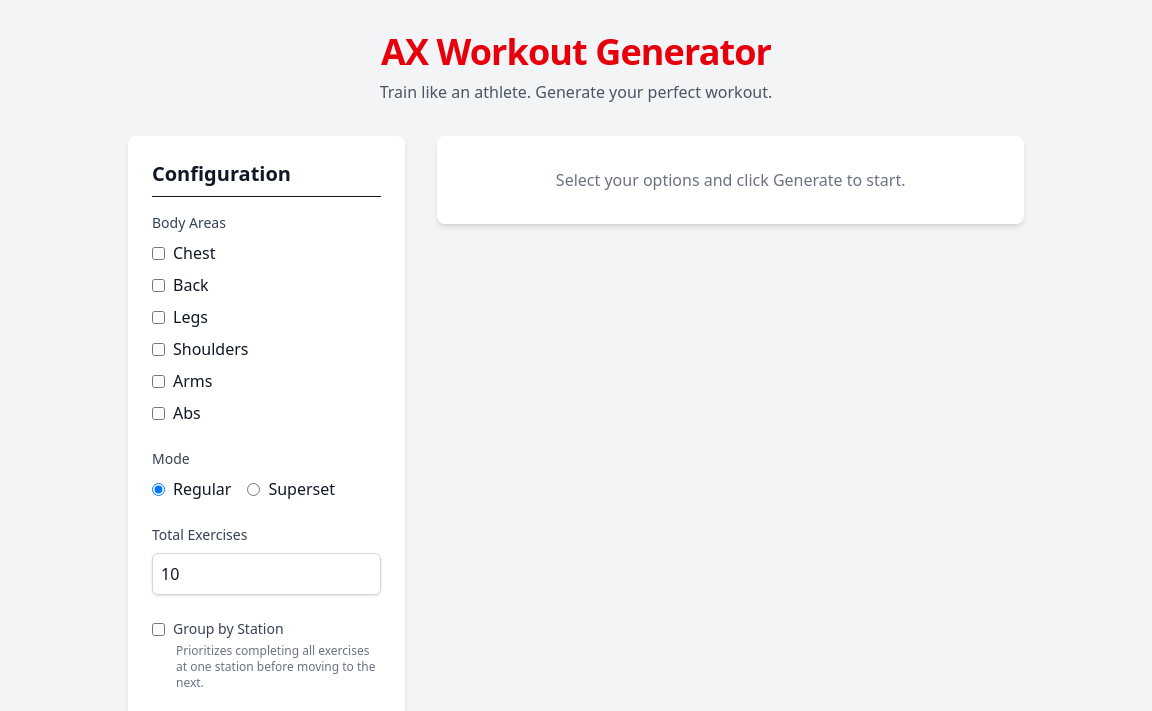
Test: App Component › generates a workout and allows clearing it
This screenshot has width=1152, height=711.
Check: the text "Select your options and click Generate to start." is shown, box [437,136,1024,224]
Check: the text "CLEAR WORKOUT" is not shown
Note: Select a body area (Chest)
Click the checkbox labelled "Chest": (158, 253) [152,246,165,260]
(page scrolled)
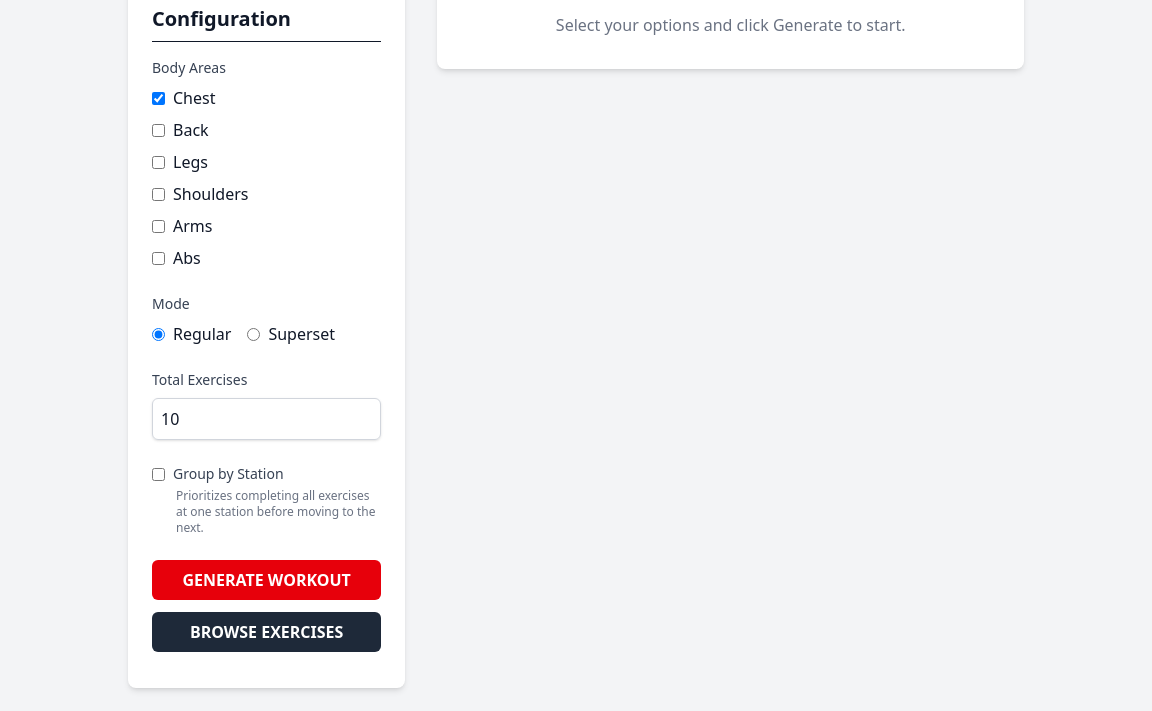
Note: Click Generate
Click the button "GENERATE WORKOUT": (267, 580) [152,560,381,600]
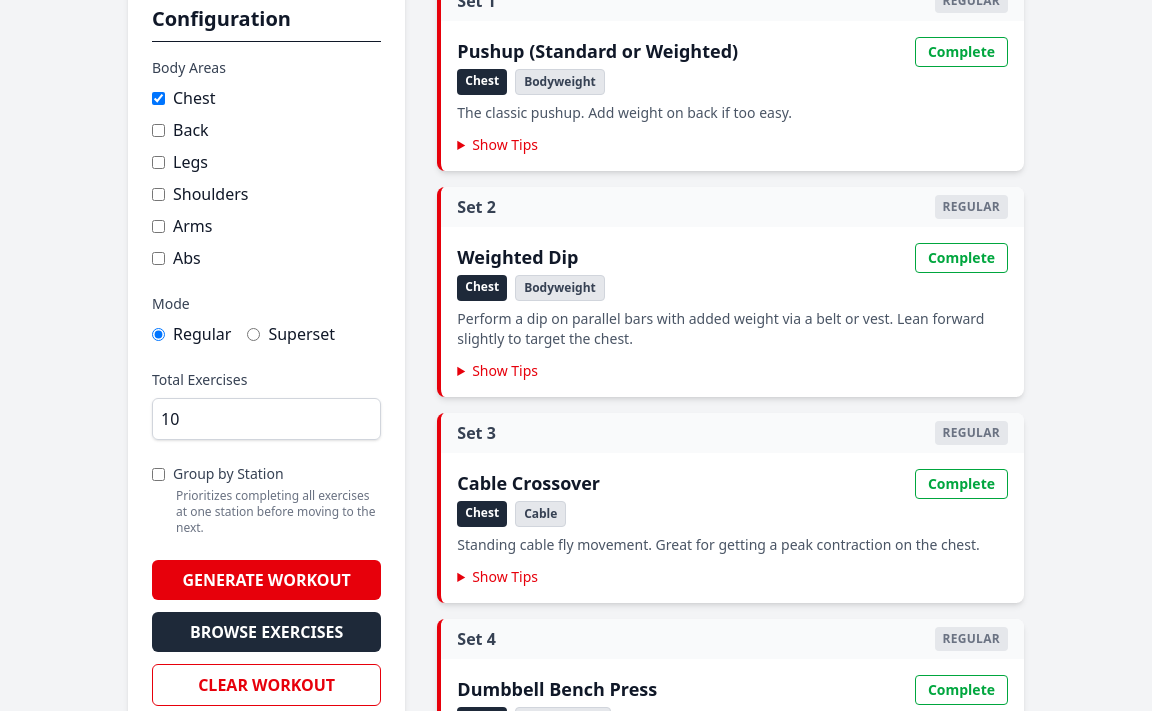
Check: the button "CLEAR WORKOUT" is shown
Note: Click Clear
Click the button "CLEAR WORKOUT": (267, 685) [152,664,381,706]
(page scrolled)
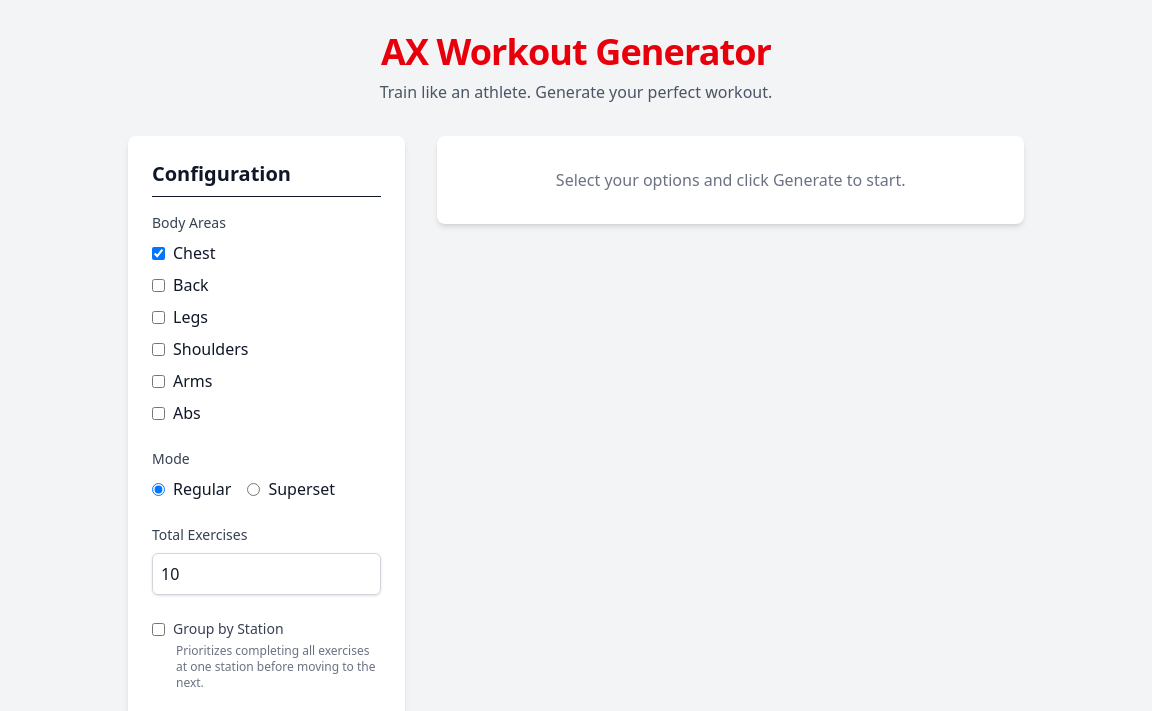
Check: the text "Select your options and click Generate to start." is shown, box [437,136,1024,224]
Check: the button "CLEAR WORKOUT" is gone
